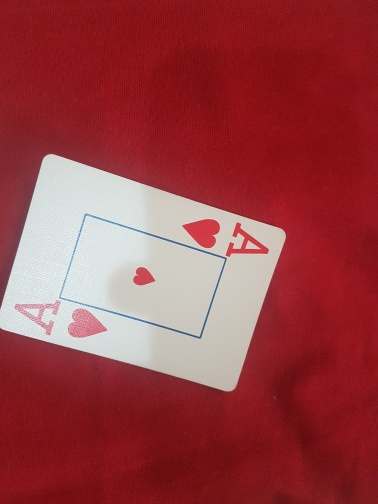ace: (1, 153, 287, 394)
